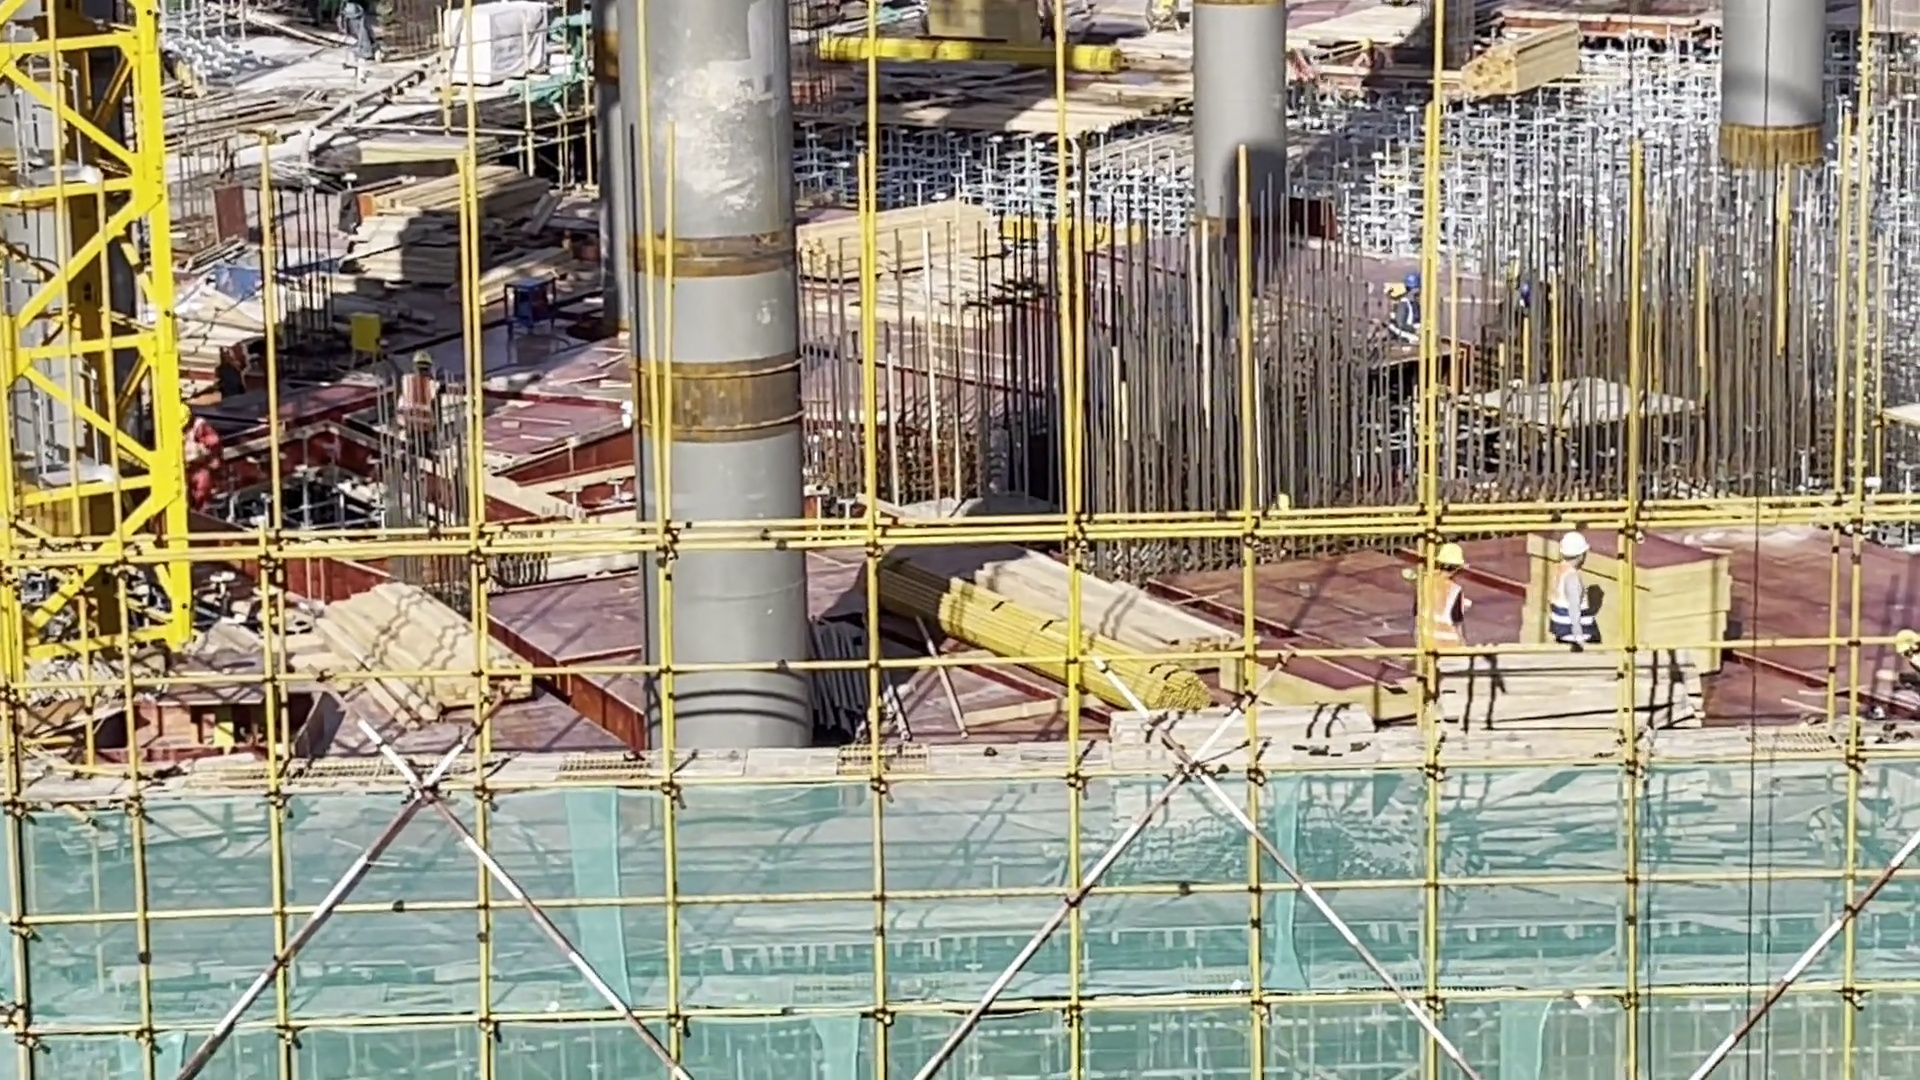board: (356, 174, 551, 288), (1617, 537, 1739, 668)
helmet: (1560, 533, 1590, 557), (1437, 544, 1464, 565)
person: (1542, 533, 1601, 649), (1427, 541, 1470, 651)
vest: (1546, 565, 1592, 653), (1425, 576, 1470, 649)
wood: (952, 551, 1231, 701), (309, 574, 523, 706), (1444, 642, 1724, 742), (798, 206, 1002, 281), (1447, 26, 1575, 100)
